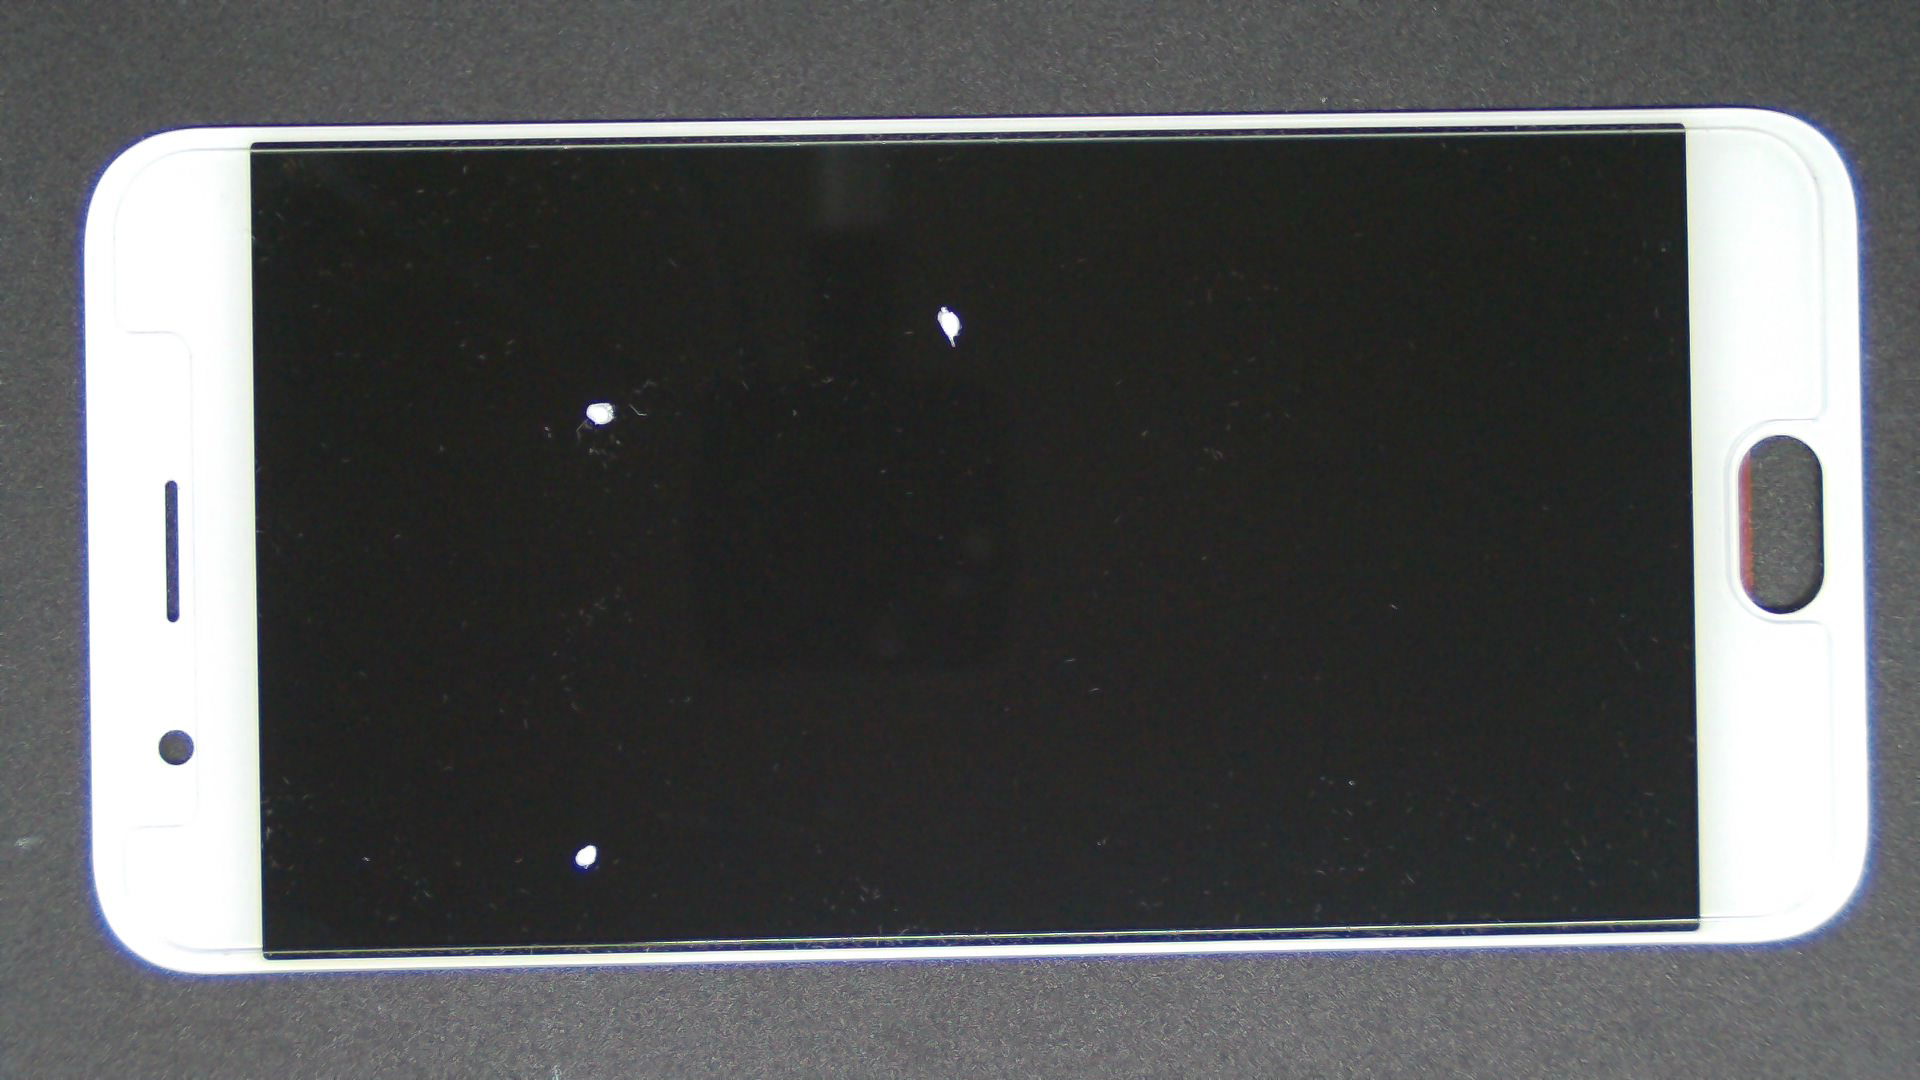defect: (935, 305, 963, 348), (584, 401, 618, 426), (574, 843, 597, 870)
